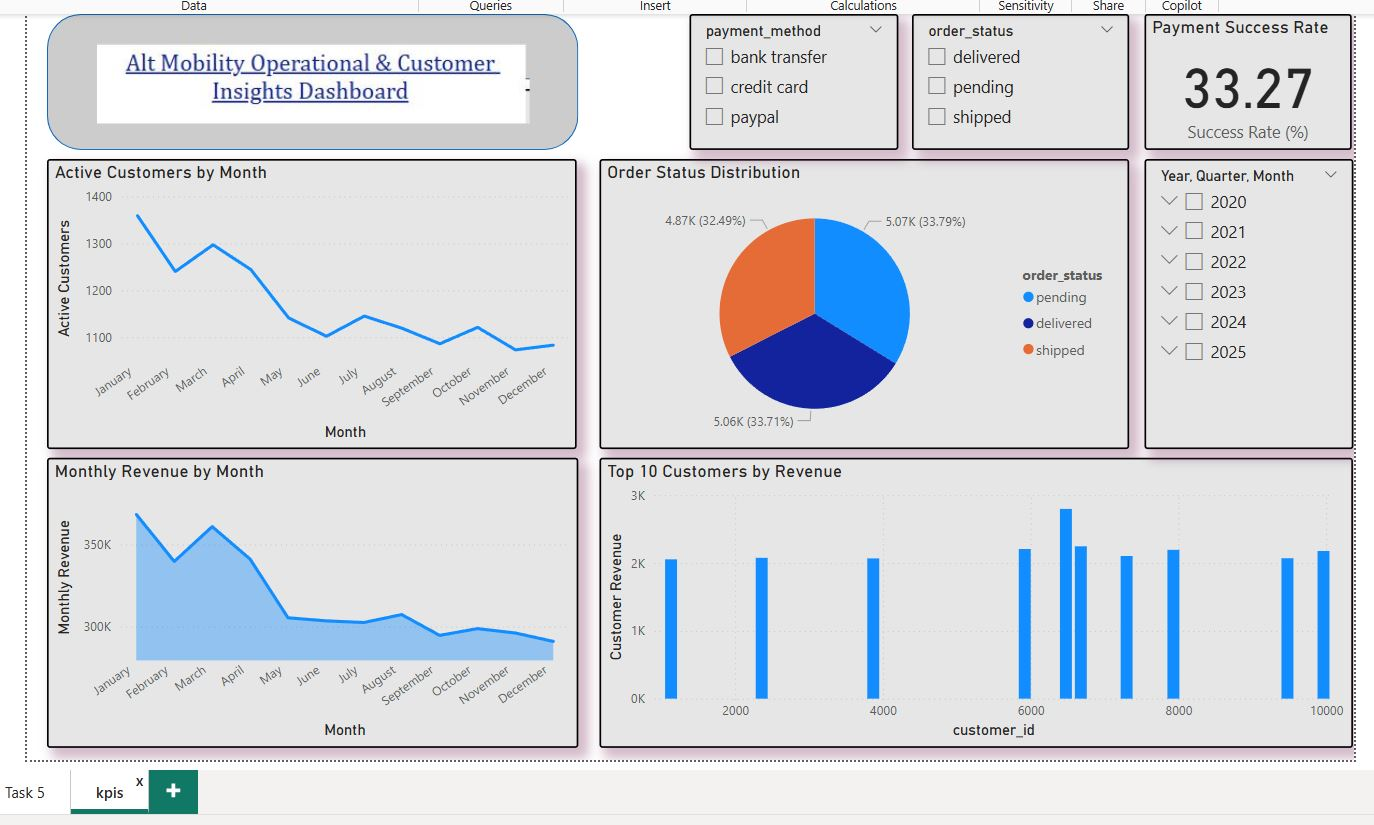

This screenshot's page, from the dashboard's own definition file:
{"tool":"powerbi","page":{"name":"kpis","canvas":[1280,720],"ordinal":1},"visuals":[{"type":"lineChart","fields":{"Category":["customer_orders.order_date.Variation.Date Hierarchy.Month"],"Y":["customer_orders.Active Customers"]},"box":[19.3,139.9,511.5,279.9],"z":0},{"type":"areaChart","fields":{"Category":["customer_orders.order_date.Variation.Date Hierarchy.Month"],"Y":["customer_orders.Monthly Revenue"]},"box":[19.3,428.3,512.7,279.9],"z":1},{"type":"pieChart","title":"Order Status Distribution","fields":{"Category":["customer_orders.order_status"],"Y":["CountNonNull(customer_orders.order_id)"]},"box":[552.5,139.9,511.5,279.9],"z":2},{"type":"card","title":"Payment Success Rate","fields":{"Values":["customer_orders.Success Rate (%)"]},"box":[1078.6,0,200.3,131.5],"z":3},{"type":"clusteredColumnChart","title":"Top 10 Customers by Revenue","fields":{"Y":["customer_orders.Customer Revenue"],"Category":["customer_orders.customer_id"]},"box":[552.5,428.3,727.5,279.9],"z":4},{"type":"slicer","fields":{"Values":["customer_orders.order_status"]},"box":[854.2,0,209.9,131.5],"z":5},{"type":"slicer","fields":{"Values":["customer_orders.order_date.Variation.Date Hierarchy.Year","customer_orders.order_date.Variation.Date Hierarchy.Quarter","customer_orders.order_date.Variation.Date Hierarchy.Month"]},"box":[1078.6,139.9,201.5,279.9],"z":6},{"type":"slicer","fields":{"Values":["payments.payment_method"]},"box":[639.4,0,201.5,131.5],"z":7},{"type":"shape","box":[19.3,0,512.7,131.5],"z":8},{"type":"image","box":[62.7,9.7,427.1,112.2],"z":9}]}

Visuals, with their boxes on the page's 1280x720 design canvas (x1, y1, x2, y2). These are canvas units, not pixel positions in the 1374x825 screenshot, which may show the page scaled, cropped or inside an application window:
lineChart - customer_orders.order_date.Variation.Date Hierarchy.Month x customer_orders.Active Customers: box(19, 140, 531, 420)
areaChart - customer_orders.order_date.Variation.Date Hierarchy.Month x customer_orders.Monthly Revenue: box(19, 428, 532, 708)
"Order Status Distribution" pieChart: box(552, 140, 1064, 420)
"Payment Success Rate" card: box(1079, 0, 1279, 132)
"Top 10 Customers by Revenue" clusteredColumnChart: box(552, 428, 1280, 708)
slicer - customer_orders.order_status: box(854, 0, 1064, 132)
slicer - customer_orders.order_date.Variation.Date Hierarchy.Year x customer_orders.order_date.Variation.Date Hierarchy.Quarter: box(1079, 140, 1280, 420)
slicer - payments.payment_method: box(639, 0, 841, 132)
shape: box(19, 0, 532, 132)
image: box(63, 10, 490, 122)
